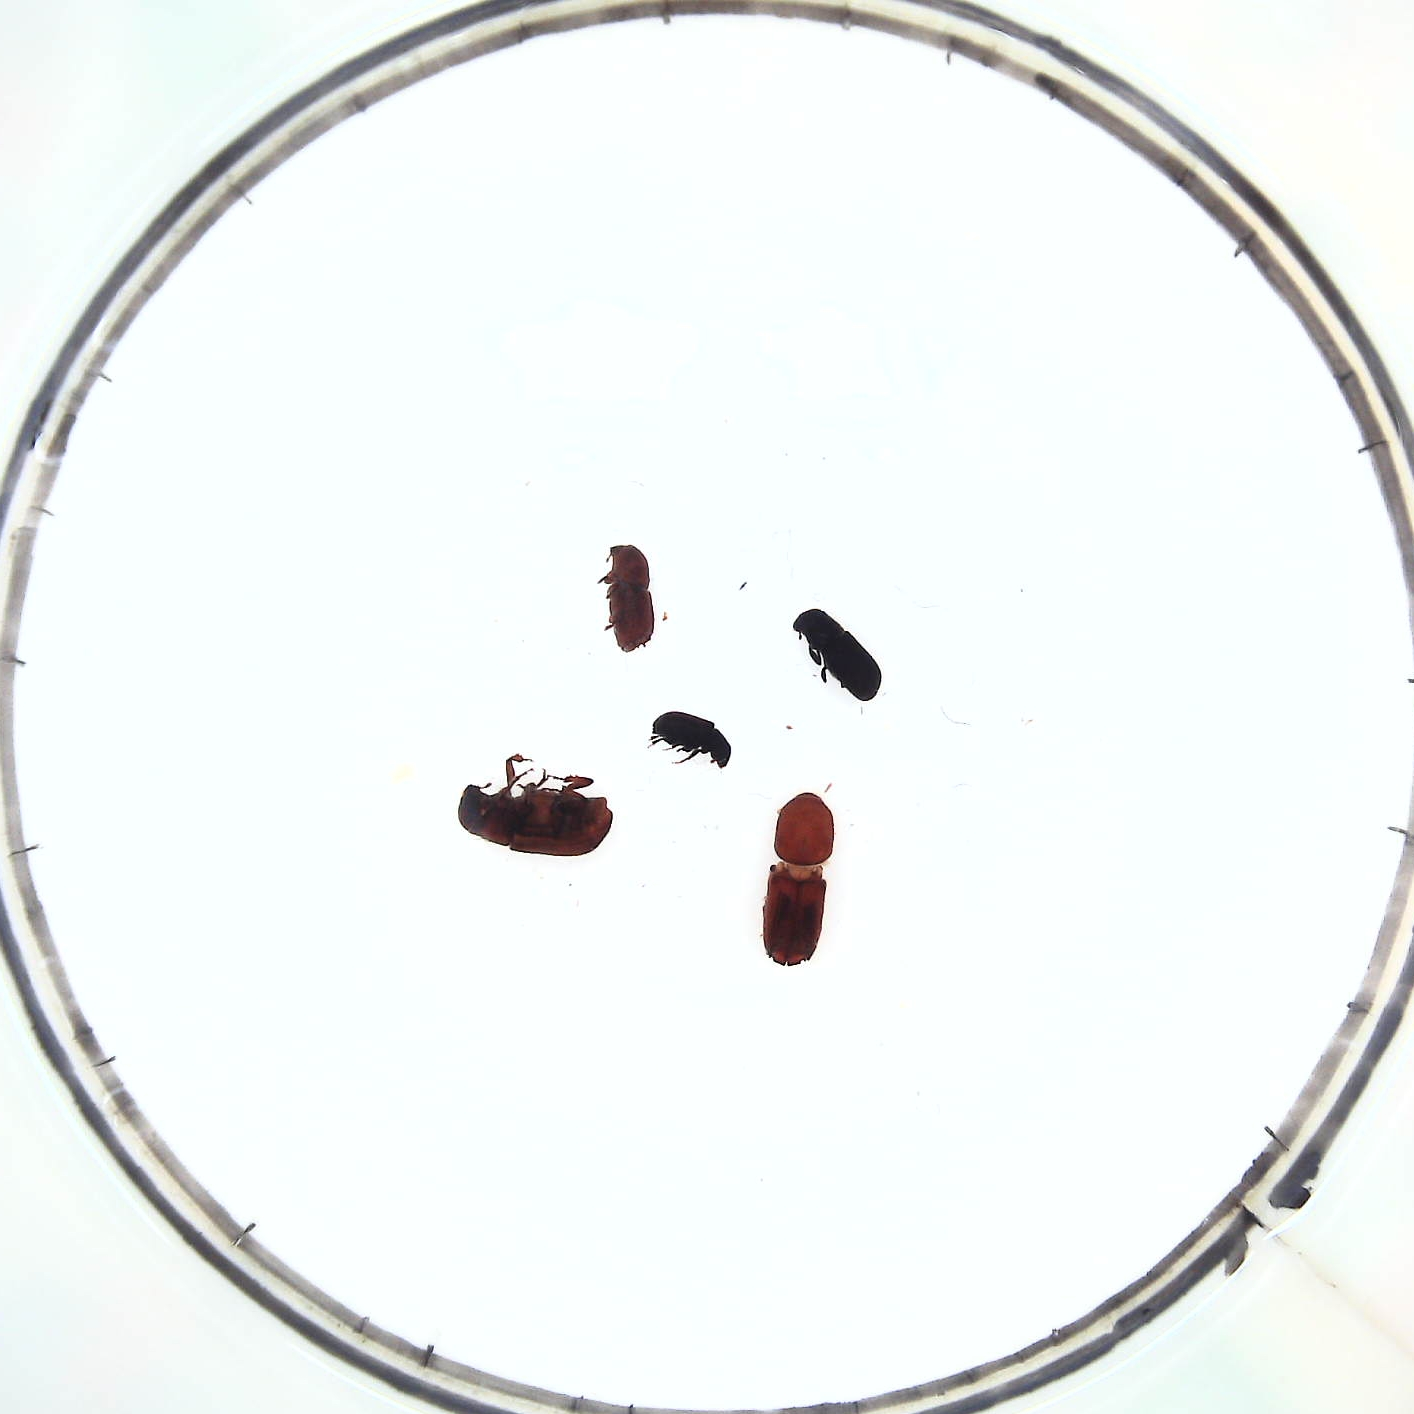Boerner: (763, 791, 836, 967)
Leconte: (458, 761, 615, 861)
Linnaeus: (600, 539, 660, 656)
armandi: (794, 607, 882, 704)
coleoptera: (647, 710, 734, 770)
